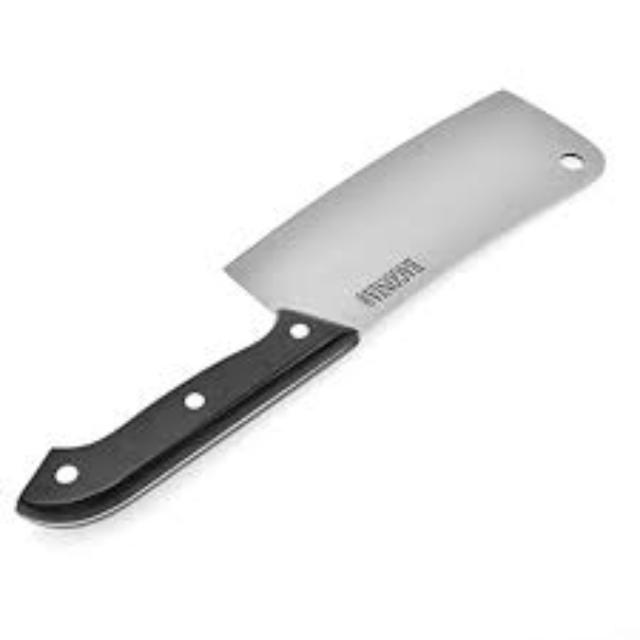Knife: (14, 86, 606, 526)
